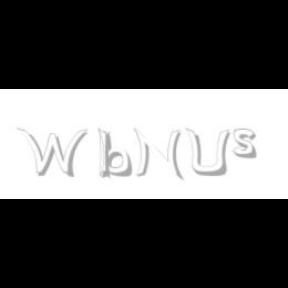N: (132, 128, 181, 180)
U: (184, 128, 230, 178)
W: (16, 128, 88, 178)
b: (97, 128, 135, 178)
l: (98, 128, 114, 180)
s: (233, 128, 261, 160)
